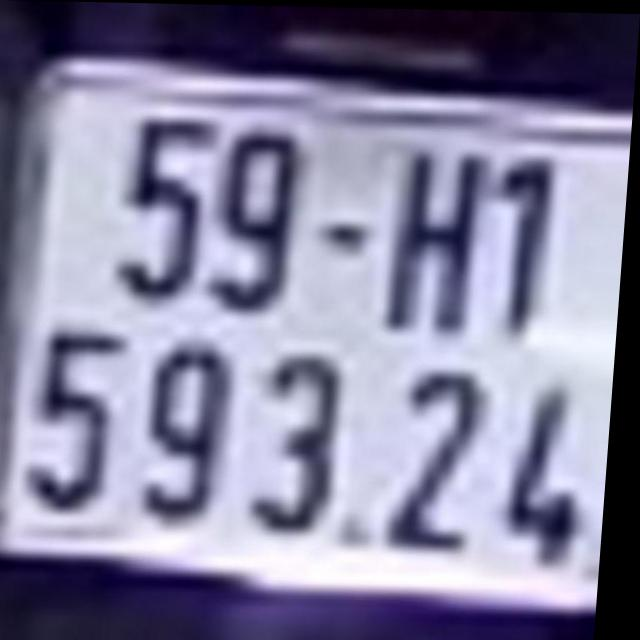1: (491, 148, 559, 342)
2: (393, 364, 488, 550)
3: (256, 349, 352, 536)
4: (508, 376, 602, 563)
5: (33, 324, 129, 514), (122, 115, 216, 301)
9: (212, 126, 302, 314), (145, 336, 234, 520)
H: (384, 143, 487, 346)
